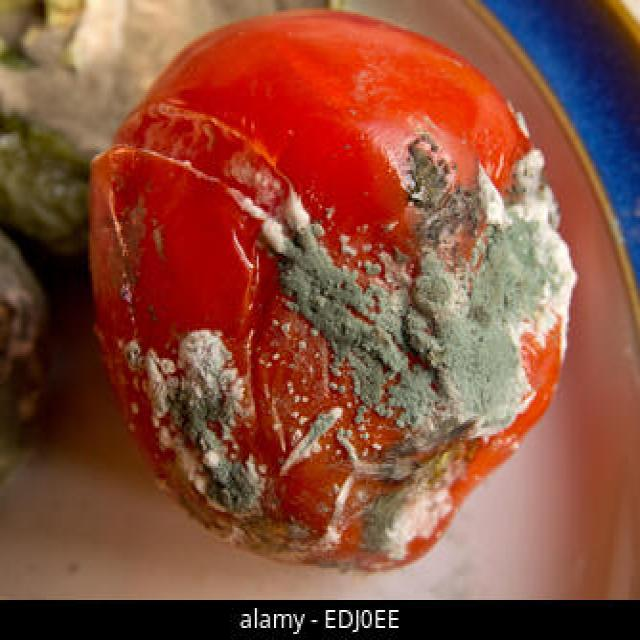Rotten: (84, 13, 579, 568)
